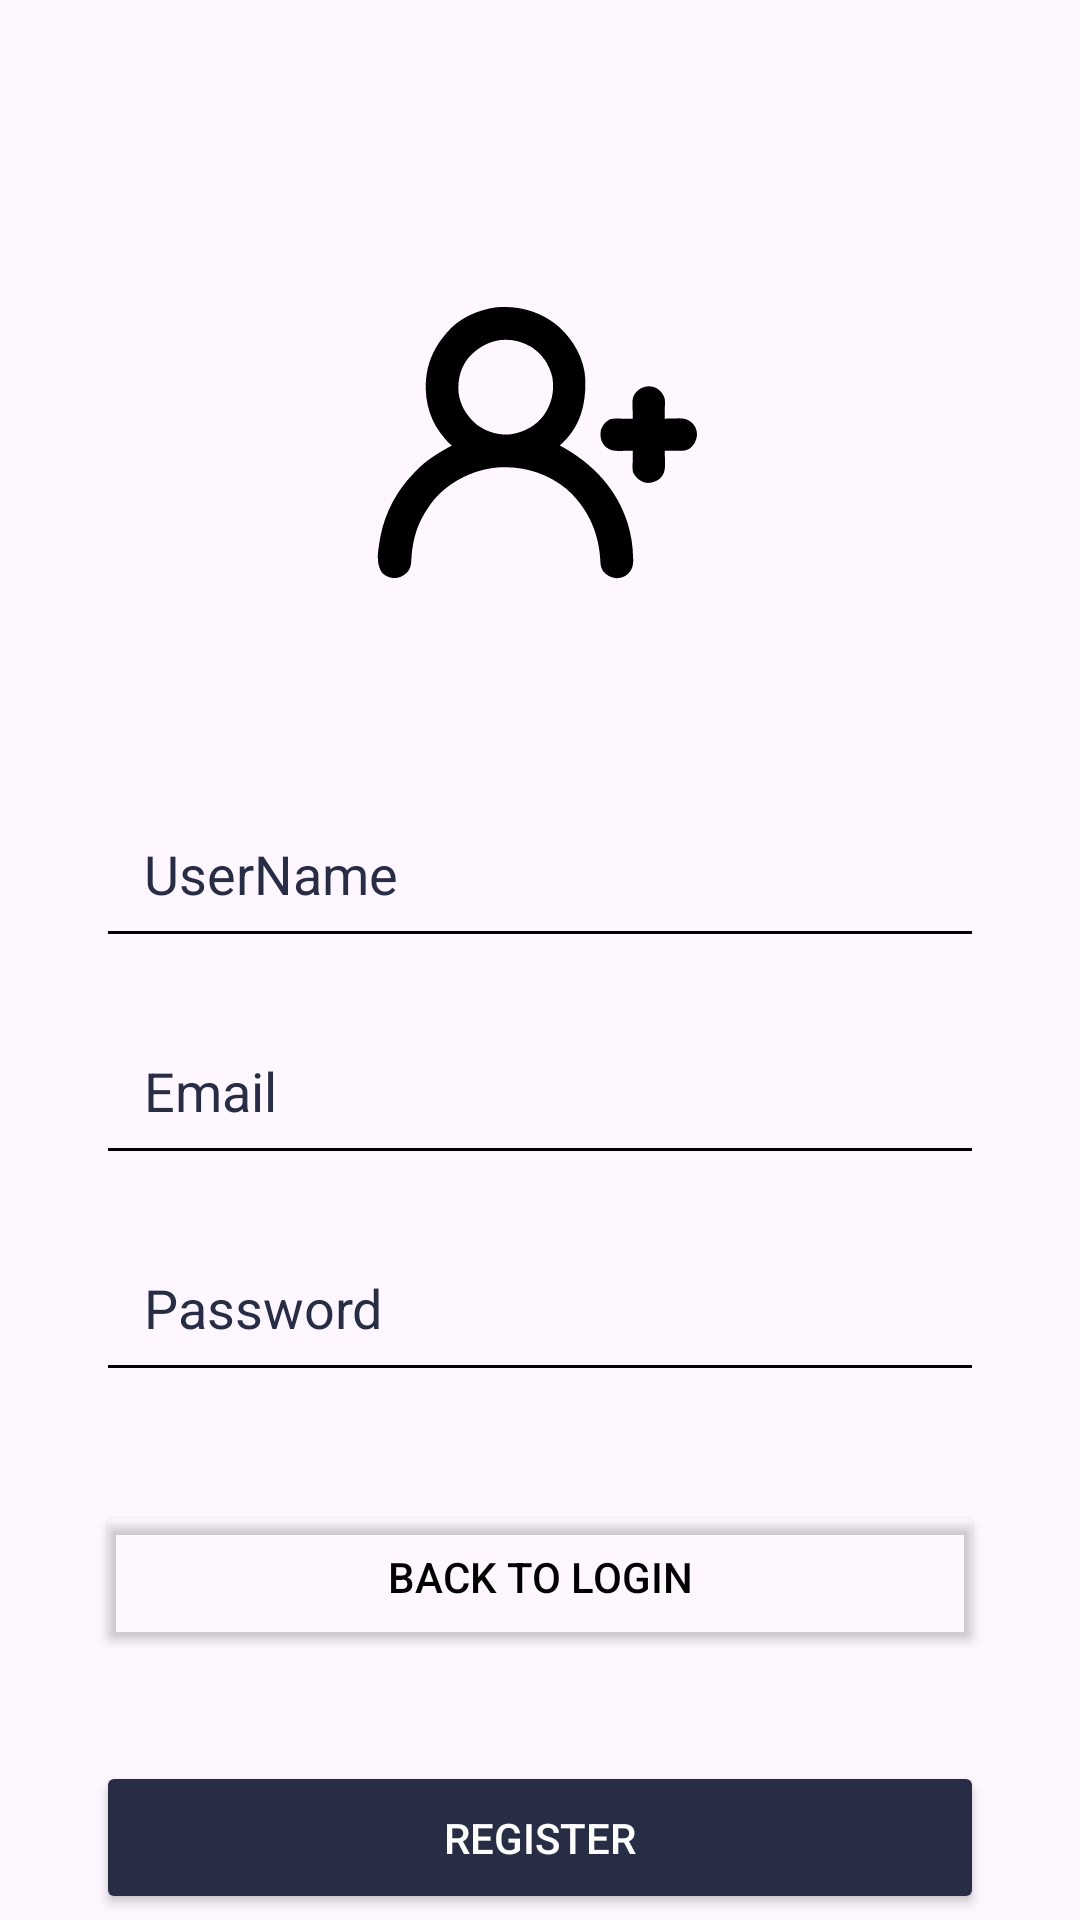

Icon bounding boxes for this 1080 × 1920 phone screenshot, format [left=x1, top=y1, right=x2, bottom=y2]:
register: [left=377, top=307, right=697, bottom=579]
